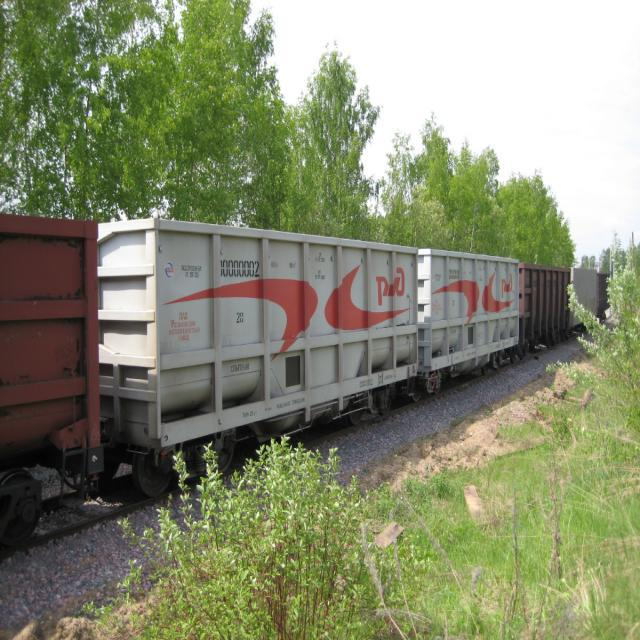wagon: (218, 256, 262, 279)
